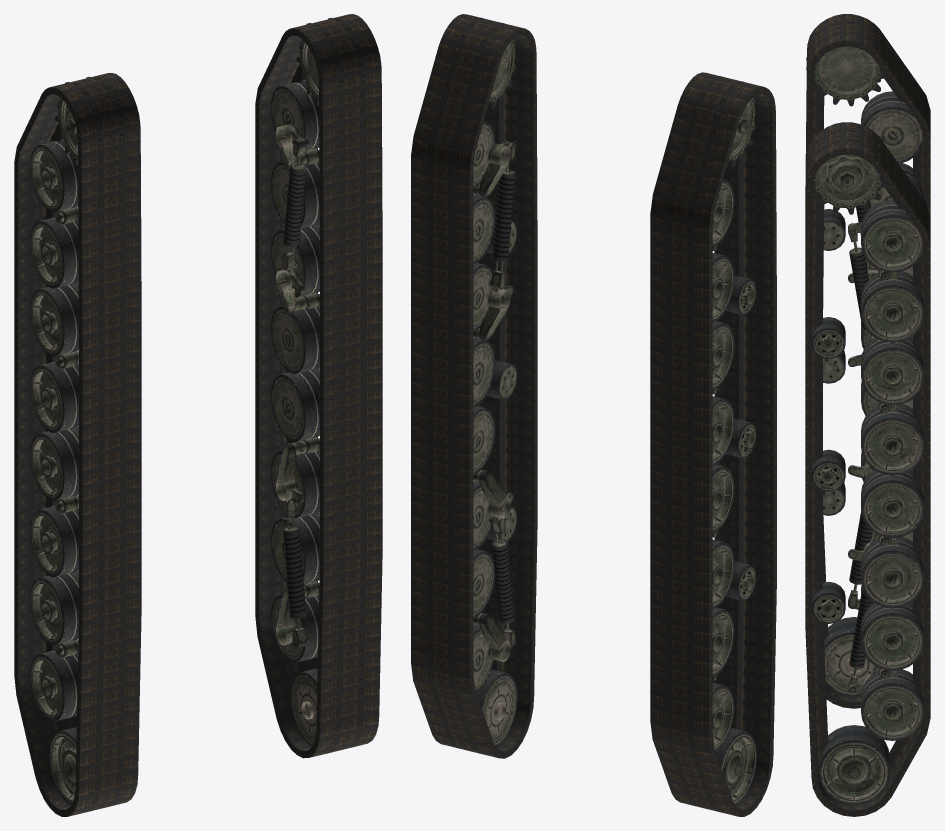
The model's file is Chassis.glb.
3 renders of one model, left to right at view 1: azimuth 30°, elevation 25°; view 2: azimuth 150°, elevation 25°; view 3: azimuth 270°, elevation 25°, orthographic. The views are drawn at different scales.
Parts seen in each view (by area): view 1: set_1_group_0, set_0_group_0, set_3_group_0, set_2_group_0; view 2: set_1_group_0, set_0_group_0, set_3_group_0, set_2_group_0; view 3: set_3_group_0, set_0_group_0, set_2_group_0, set_1_group_0.
Boxes of the visible parts, x1,y1,x2,y2 form: set_1_group_0: (14, 73, 141, 816); set_0_group_0: (255, 14, 382, 758); set_3_group_0: (271, 17, 364, 746); set_2_group_0: (30, 76, 123, 804); set_1_group_0: (650, 72, 776, 816); set_0_group_0: (411, 14, 537, 758); set_3_group_0: (455, 17, 517, 746); set_2_group_0: (695, 76, 756, 804); set_3_group_0: (806, 129, 923, 804); set_0_group_0: (805, 122, 930, 816); set_2_group_0: (806, 21, 923, 696); set_1_group_0: (805, 14, 930, 708).
Size of the model in its own units: 3.05 by 7.06 by 1.2.
Materials: 4 (4 with a texture image).
